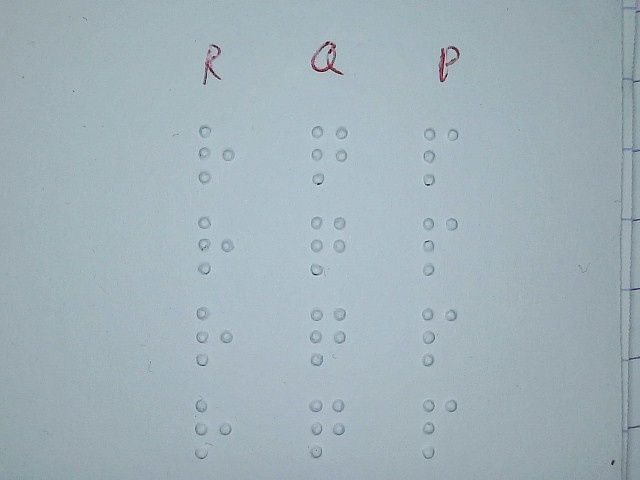P: (421, 124, 461, 188), (420, 213, 460, 277), (419, 304, 459, 368), (420, 395, 460, 459)
Q: (310, 123, 350, 187), (309, 213, 349, 277), (308, 304, 348, 368), (307, 395, 347, 459)
R: (196, 123, 237, 184), (195, 214, 236, 275), (194, 305, 235, 366), (192, 398, 233, 459)
